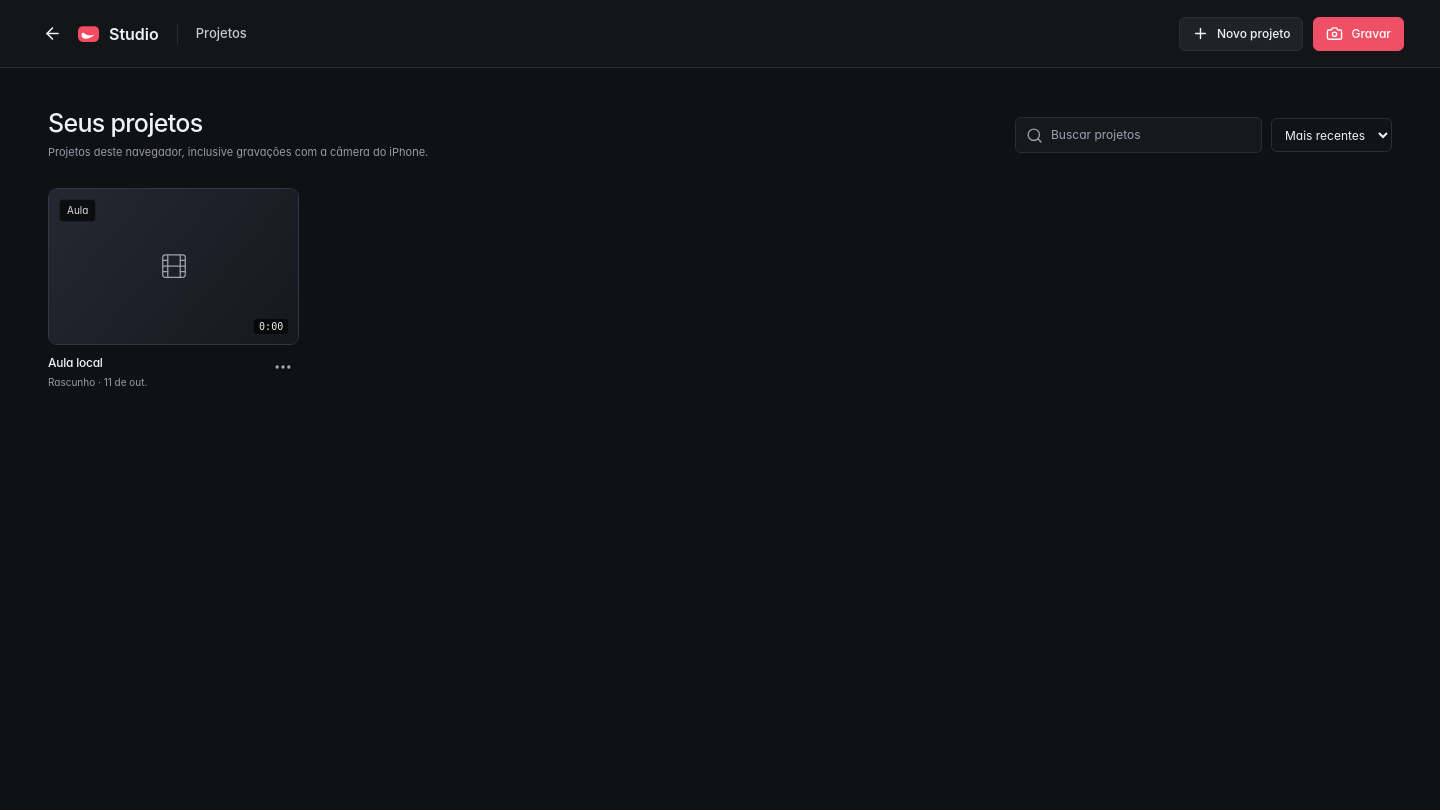
galeria desktop de projetos reais › duas confirmações no mesmo frame excluem só o projeto confirmado e bloqueiam novas ações até a escrita
Later steps or results of the test are not shown.
Click the button named "Opções de Aula local". click: (283, 367)
box: 267,351 -> 299,383
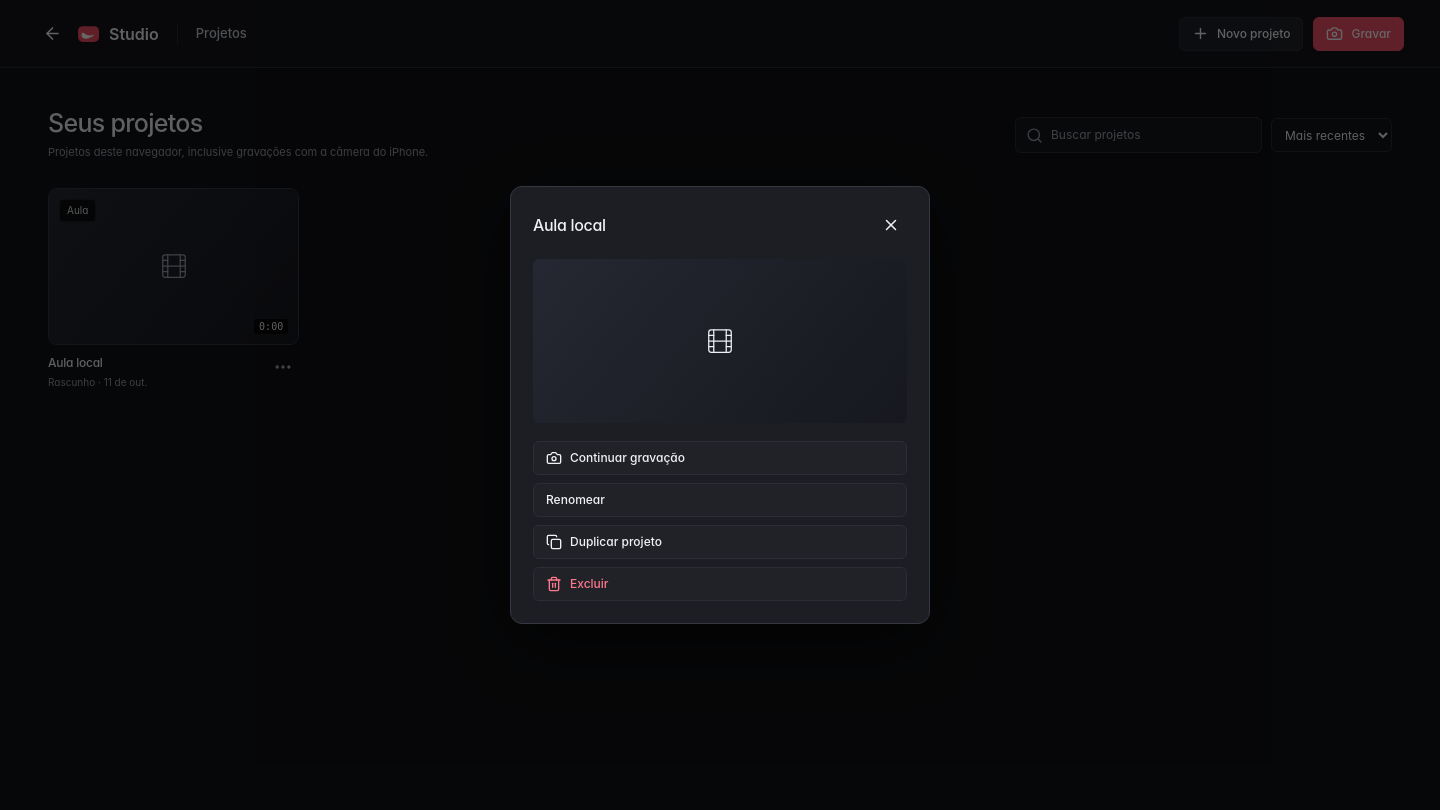
Expected: the button "Excluir" is shown
Click the button "Excluir". click: (589, 583)
box: 533,567 -> 907,601
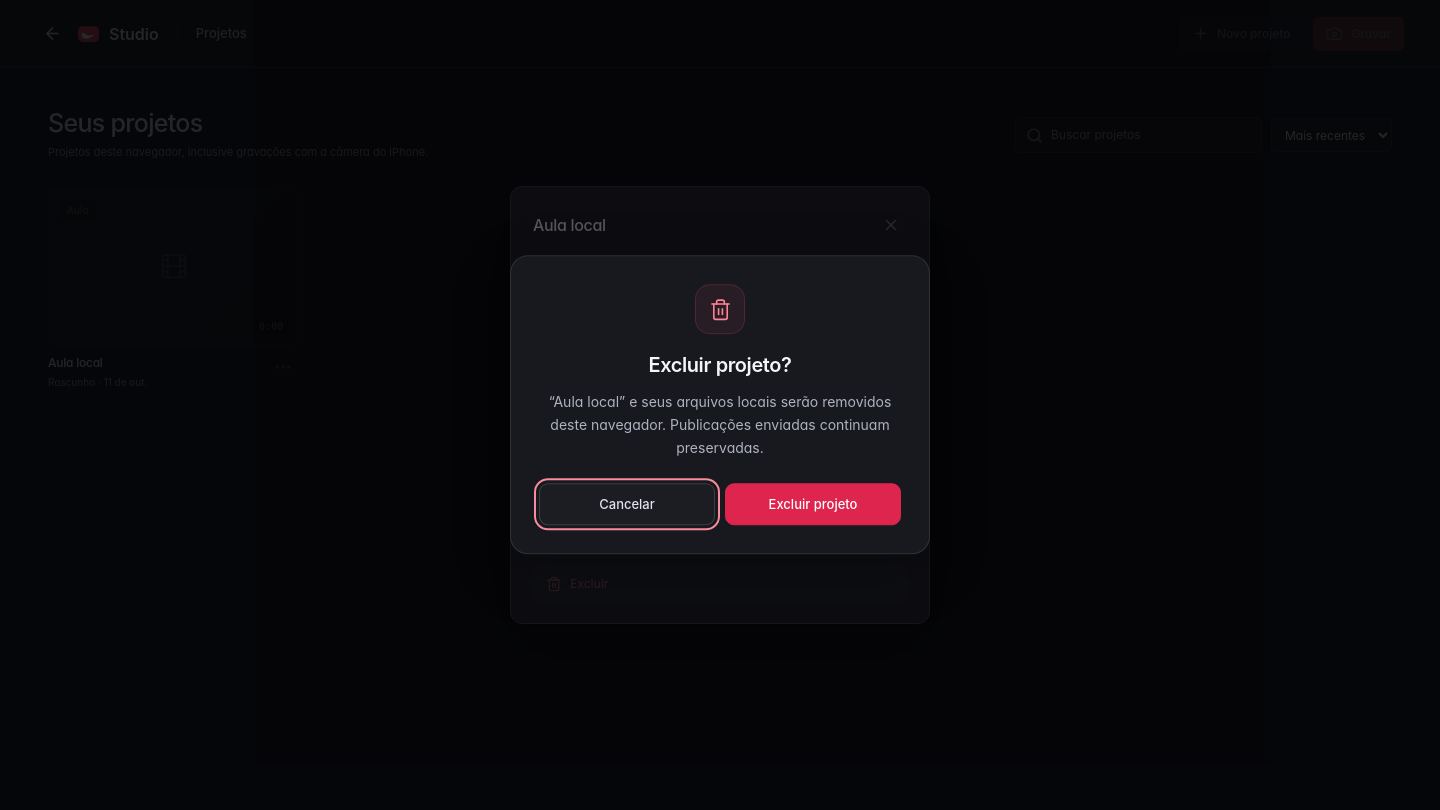
Click the button with class "se-confirmation-accept". click: (813, 505)
box: 725,484 -> 901,526
Click the button with class "se-confirmation-accept". click: (813, 505)
box: 725,484 -> 901,526
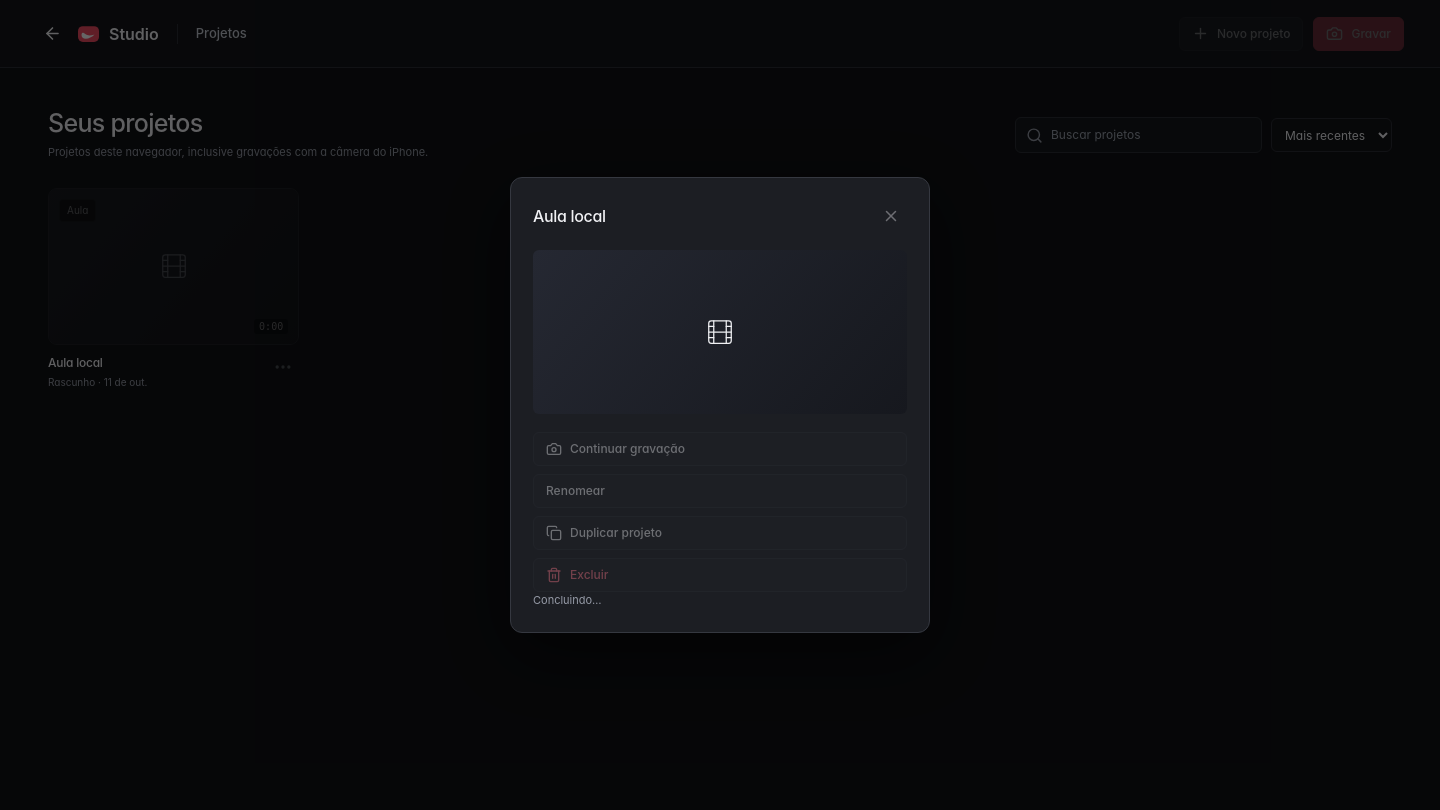
Expected: the button "Gravar" is shown, 1314,16 -> 1404,50
Expected: the button "Aula 0:00" is disabled, 48,188 -> 299,345
